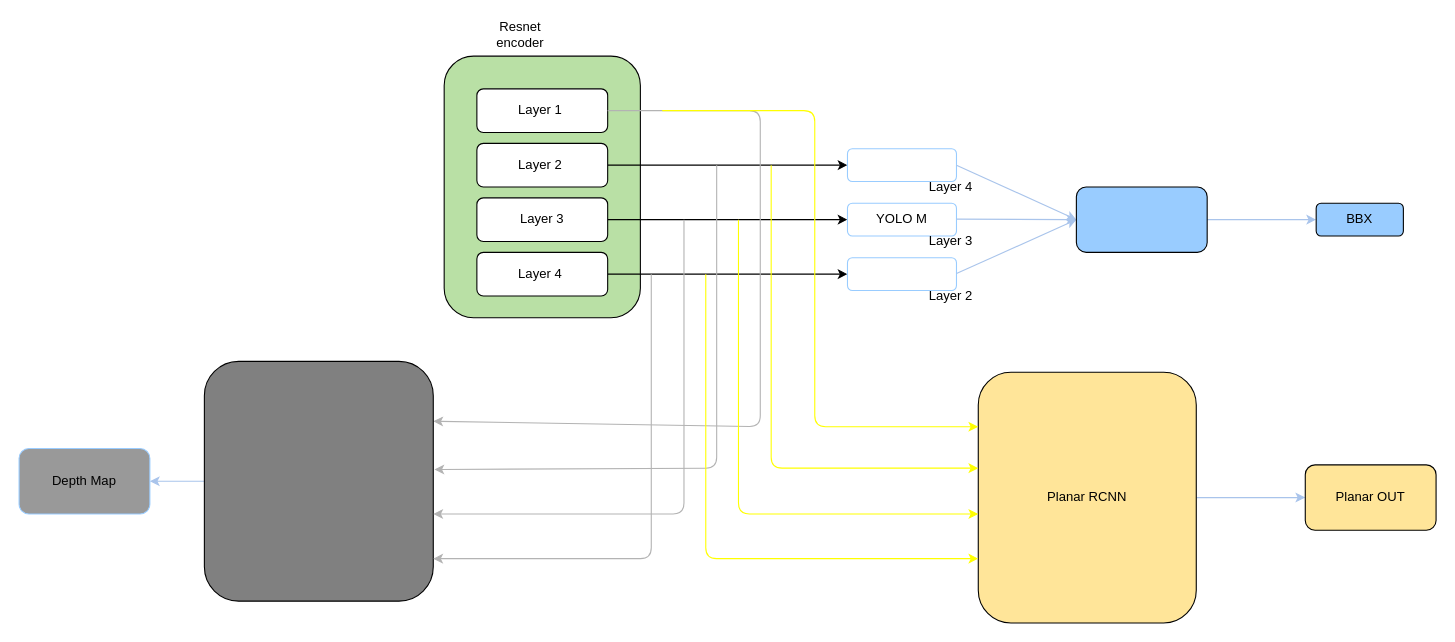
This 1455x642 diagram has some shape labels left out. The box of each missing label's shape, as (x1, y1, x2, y2) in pixels:
BB- Decoder DARKNET: (1075, 186, 1207, 252)
Midas: (203, 360, 433, 601)
YOLO L: (846, 257, 956, 290)
YOLO S: (846, 148, 956, 181)
